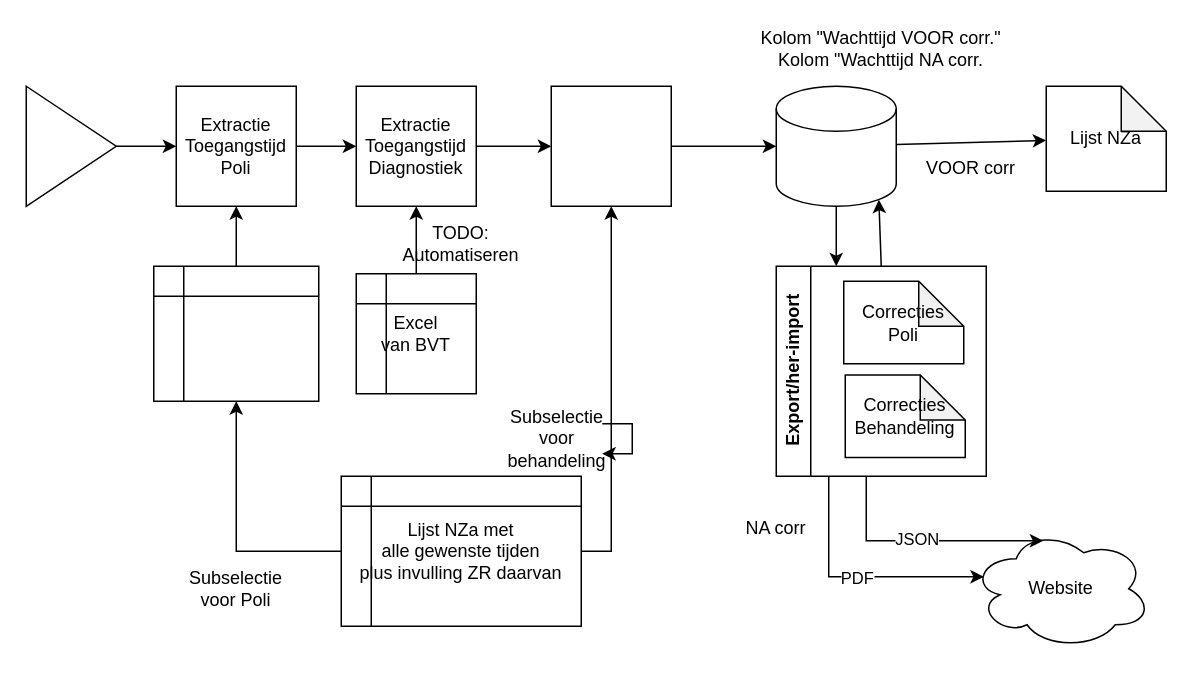
Image size: 1193x675. Some labels were removed from this diagram. The centre of each missing label's shape, as x and y in pixels:
"Dinsdag" belongs at (x=70, y=145).
"DWH-ZRT tabel Wachttijden" belongs at (x=835, y=145).
"Extractie wachttijd behandeling" belongs at (x=610, y=145).
"Lijst van agenda's/ blueprints per locatie" belongs at (x=235, y=333).
